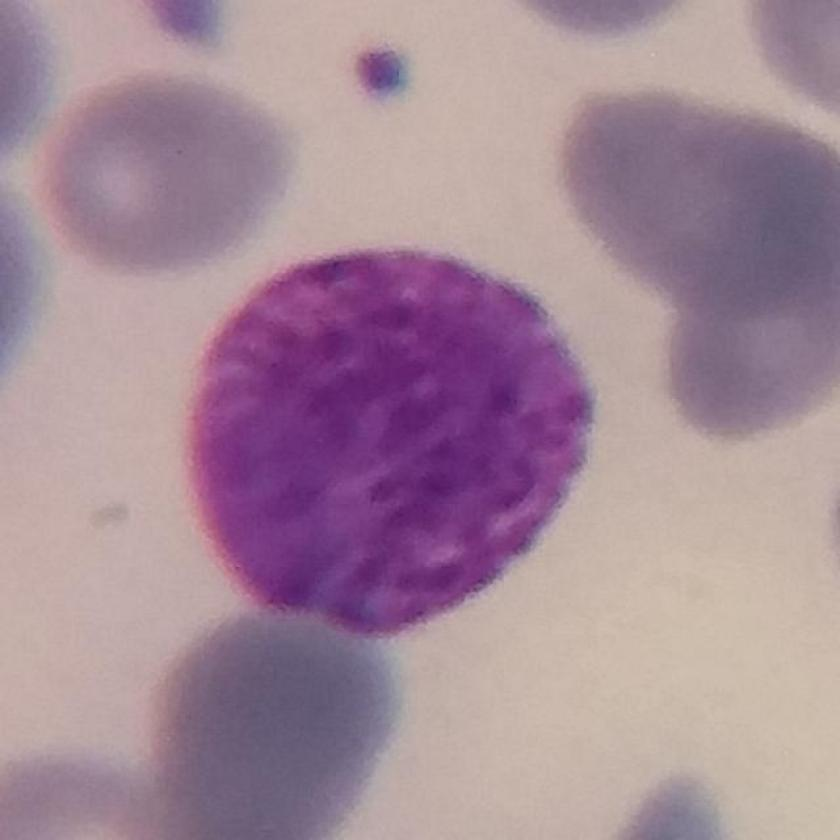basophil: (184, 233, 620, 643)
